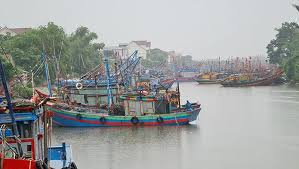tau_dansu: (36, 81, 206, 129), (223, 68, 279, 86)
